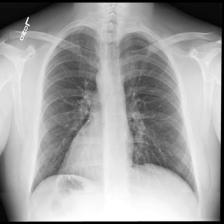normal: (29, 21, 201, 203)
